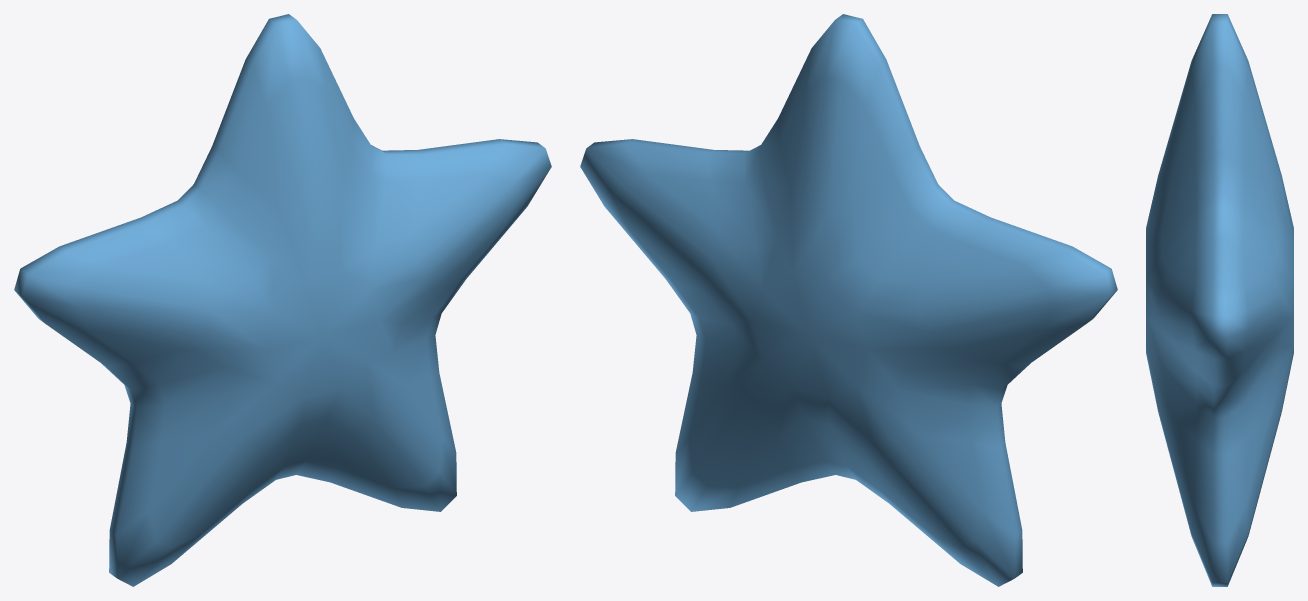
The model's file is expStar.fbx.
The picture shows the model from 3 angles, left to right: view 1: azimuth 30°, elevation 25°; view 2: azimuth 150°, elevation 25°; view 3: azimuth 270°, elevation 25°; orthographic projection. The views are drawn at different scales.
Visible parts, largest first — view 1: expStar; view 2: expStar; view 3: expStar.
Boxes of the visible parts, left/top/right/bottom form: expStar: left=14, top=14, right=551, bottom=586; expStar: left=580, top=14, right=1117, bottom=586; expStar: left=1146, top=14, right=1293, bottom=586.
Bounding box in the file's own units: 80.98 × 77.02 × 20.72.
